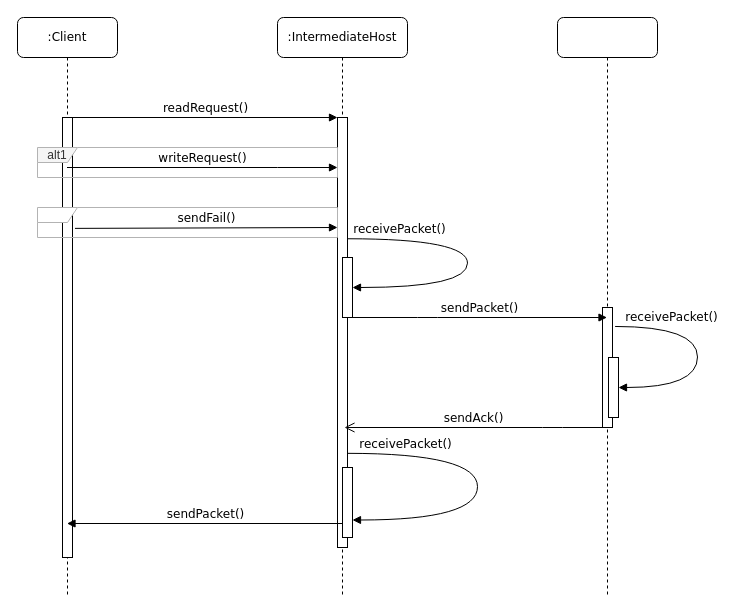
Image size: 735x615. Some labels were removed from this diagram. The shapes that lost their labels are listed below. From the top down, each one's box as (x1, y1, x2, y2) in pixels, then its label:
(36, 206, 338, 238): alt2
(556, 16, 658, 598): :Server
